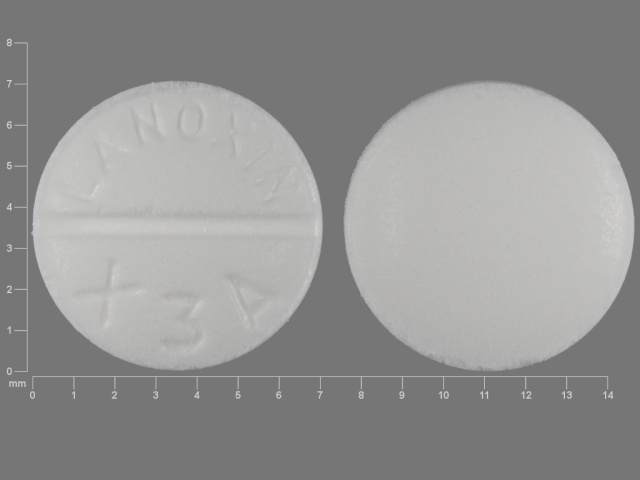3: (155, 284, 204, 352)
A: (218, 264, 284, 329), (89, 131, 133, 170)
I: (246, 142, 278, 171)
L: (58, 177, 108, 202)
N: (255, 161, 301, 204), (127, 101, 169, 140)
O: (172, 94, 206, 144)
X: (73, 253, 144, 323), (210, 108, 255, 158)
|: (29, 202, 327, 244)
